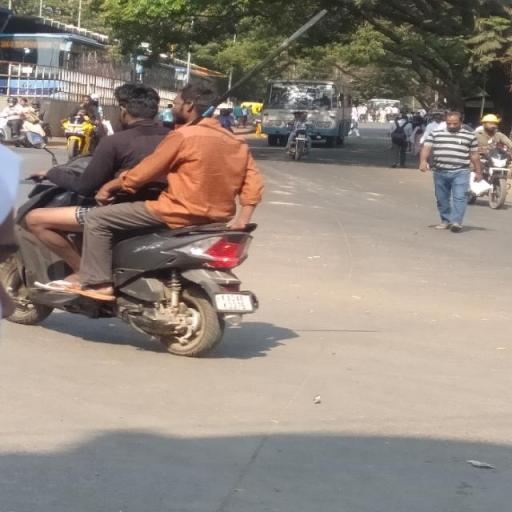bike: (6, 77, 285, 360)
withouthelmet: (115, 84, 160, 126), (177, 84, 220, 120)
